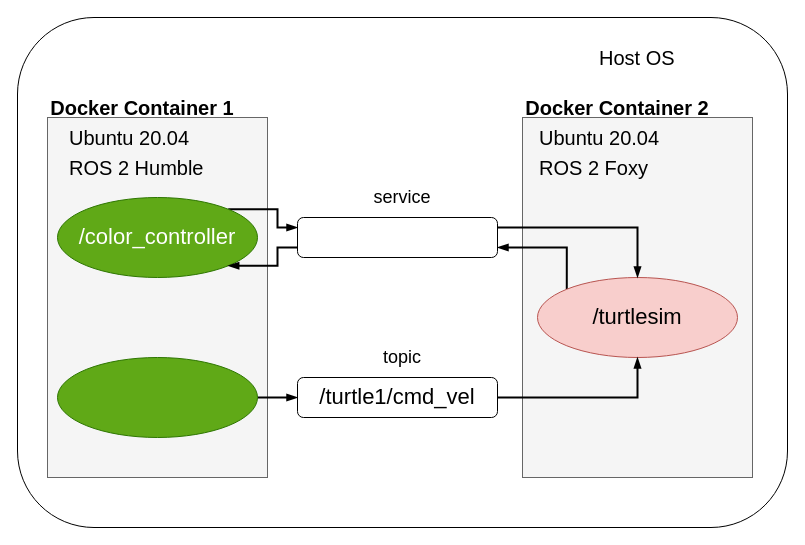
Image size: 805x545. Some labels were removed from this diagram. The centre of each missing label's shape, as x and y in pixels:
"/move_controller" belongs at point (157, 397).
"/turtle1/set_pen" belongs at point (397, 237).
